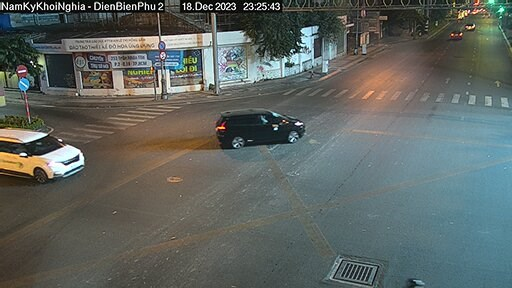car: (1, 117, 89, 190), (207, 102, 309, 145)
